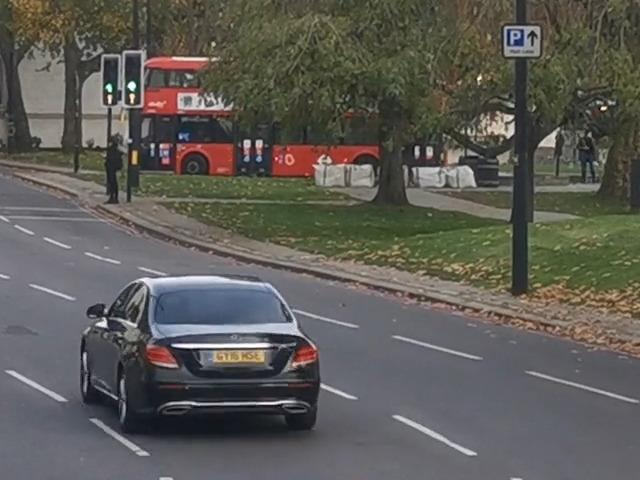bus: (127, 53, 407, 169)
car: (73, 273, 320, 436)
